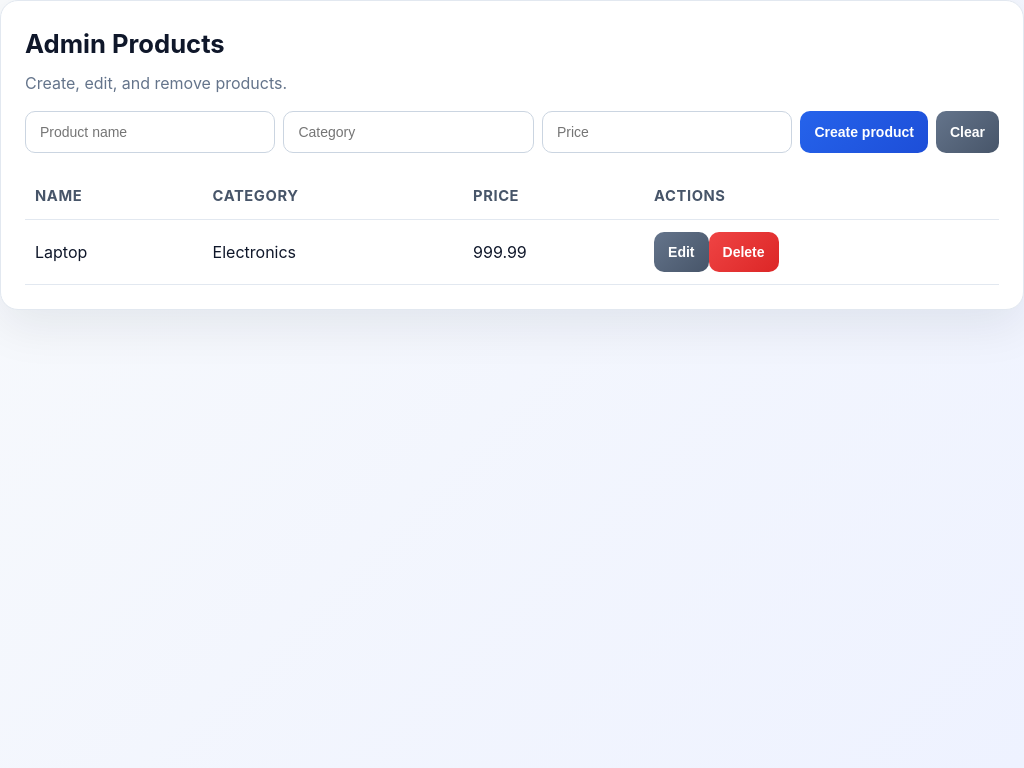
Test case: AdminProductsView › loads product values into the form when edit is clicked
Expected: the text "Laptop" is shown, [25, 220, 203, 285]
Click the button "Edit": (681, 252) [654, 232, 709, 272]
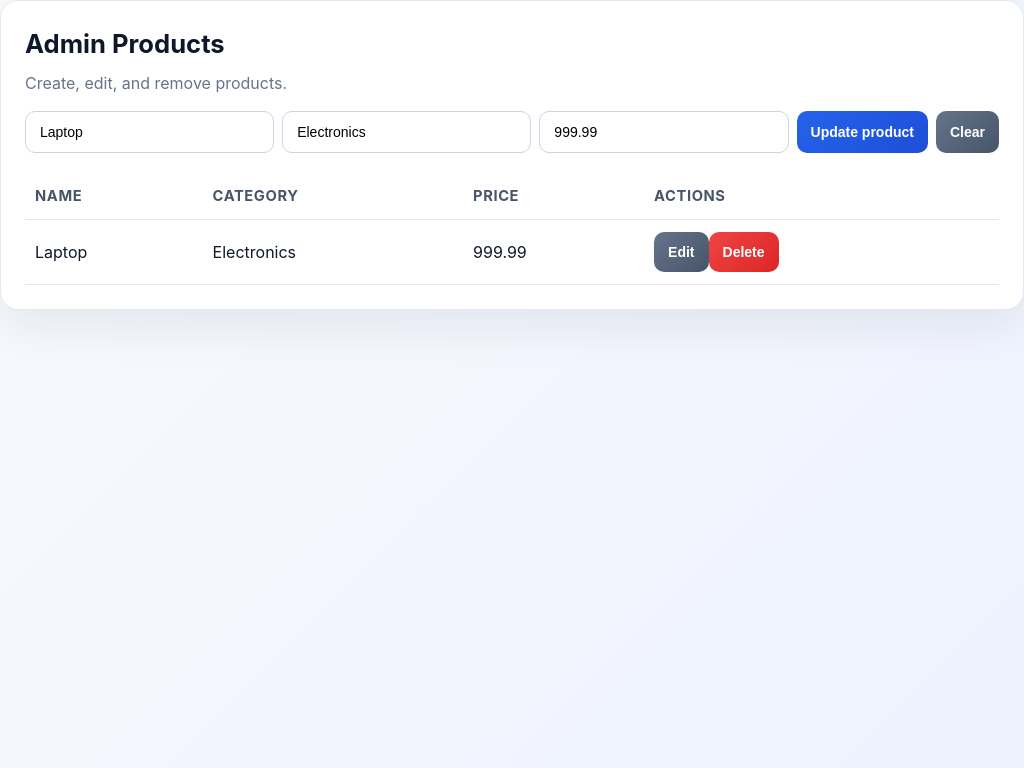
Now the 1st field with placeholder "Product name" holds "Laptop", box [25, 111, 274, 153]
Now the 2nd field with placeholder "Category" holds "Electronics", box [282, 111, 531, 153]
Now the number field with placeholder "Price" holds "999.99", box [539, 111, 788, 153]
